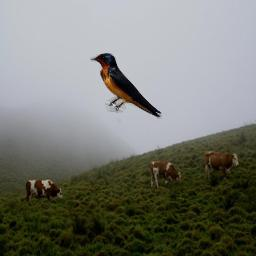Swallow: (90, 53, 162, 119)
